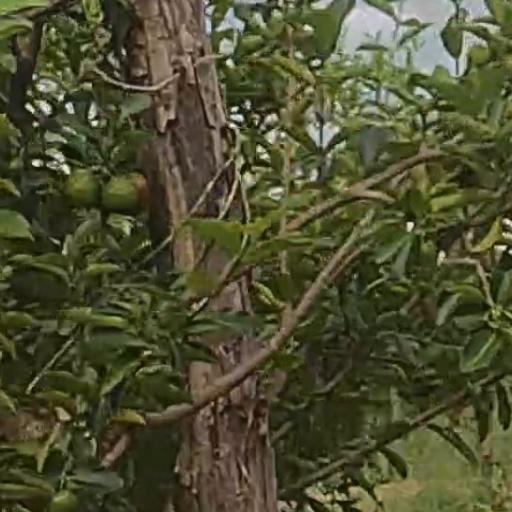acerola: (64, 169, 99, 204), (103, 176, 137, 209)
